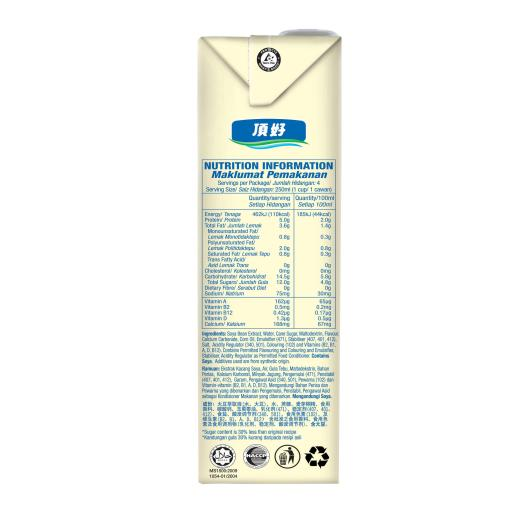drink carton: (196, 28, 344, 486)
